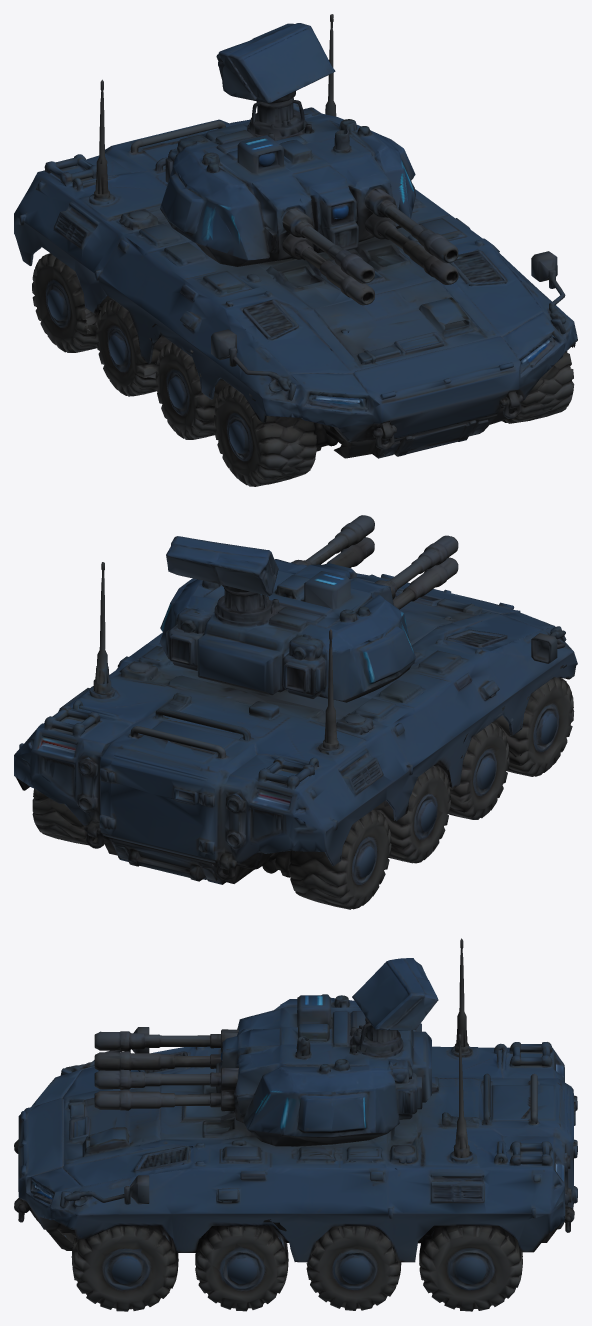
The model's file is A40_WATCHTOWER_LOD0.fbx.
3 views of the same model, one above another, from view 1: azimuth 30°, elevation 25°; view 2: azimuth 150°, elevation 25°; view 3: azimuth 270°, elevation 25° (orthographic). The views are drawn at different scales.
Visible parts, largest first — view 1: Hull, TurretArmor, Wheel_L_Front, RadarArray, Wheel_L_Rear, Wheel_L_MidFront, Wheel_L_MidRear, Wheel_R_Front, Barrel_Upper_R, Barrel_Upper_L, Barrel_Lower_R, Barrel_Lower_L; view 2: Hull, TurretArmor, Wheel_L_Rear, Wheel_L_Front, RadarArray, Wheel_L_MidRear, Wheel_L_MidFront, Wheel_R_Rear, Barrel_Upper_L, Barrel_Upper_R, Barrel_Lower_L, Barrel_Lower_R; view 3: Hull, TurretArmor, Wheel_R_Rear, Wheel_R_Front, Wheel_R_MidFront, Wheel_R_MidRear, RadarArray, Barrel_Upper_L, Barrel_Upper_R, Barrel_Lower_R, Barrel_Lower_L.
Part boxes in pixels (left/top/right/bottom): Hull: left=14, top=14, right=577, bottom=458; TurretArmor: left=160, top=98, right=415, bottom=266; Wheel_L_Front: left=211, top=376, right=326, bottom=486; RadarArray: left=216, top=23, right=335, bottom=115; Wheel_L_Rear: left=30, top=247, right=111, bottom=352; Wheel_L_MidFront: left=149, top=334, right=229, bottom=439; Wheel_L_MidRear: left=96, top=295, right=171, bottom=396; Wheel_R_Front: left=502, top=350, right=574, bottom=423; Barrel_Upper_R: left=385, top=206, right=458, bottom=263; Barrel_Upper_L: left=302, top=226, right=374, bottom=283; Barrel_Lower_R: left=403, top=240, right=458, bottom=284; Barrel_Lower_L: left=319, top=260, right=374, bottom=305; Hull: left=14, top=561, right=577, bottom=884; TurretArmor: left=160, top=559, right=415, bottom=702; Wheel_L_Rear: left=272, top=809, right=391, bottom=909; Wheel_L_Front: left=492, top=668, right=574, bottom=776; RadarArray: left=166, top=536, right=278, bottom=601; Wheel_L_MidRear: left=374, top=761, right=452, bottom=863; Wheel_L_MidFront: left=434, top=714, right=512, bottom=819; Wheel_R_Rear: left=32, top=788, right=97, bottom=845; Barrel_Upper_L: left=389, top=535, right=458, bottom=589; Barrel_Upper_R: left=306, top=515, right=374, bottom=564; Barrel_Lower_L: left=403, top=557, right=458, bottom=601; Barrel_Lower_R: left=327, top=537, right=374, bottom=568; Hull: left=14, top=938, right=577, bottom=1262; TurretArmor: left=210, top=994, right=431, bottom=1146; Wheel_R_Rear: left=419, top=1225, right=522, bottom=1311; Wheel_R_Front: left=71, top=1226, right=178, bottom=1311; Wheel_R_MidFront: left=195, top=1222, right=298, bottom=1311; Wheel_R_MidRear: left=306, top=1226, right=401, bottom=1310; RadarArray: left=352, top=958, right=438, bottom=1030; Barrel_Upper_L: left=94, top=1031, right=210, bottom=1051; Barrel_Upper_R: left=94, top=1069, right=210, bottom=1089; Barrel_Lower_R: left=94, top=1090, right=174, bottom=1110; Barrel_Lower_L: left=94, top=1051, right=174, bottom=1070.
Bounding box in the file's own units: 4.7 × 3.88 × 7.1.
Materials: 1 (1 with a texture image).
